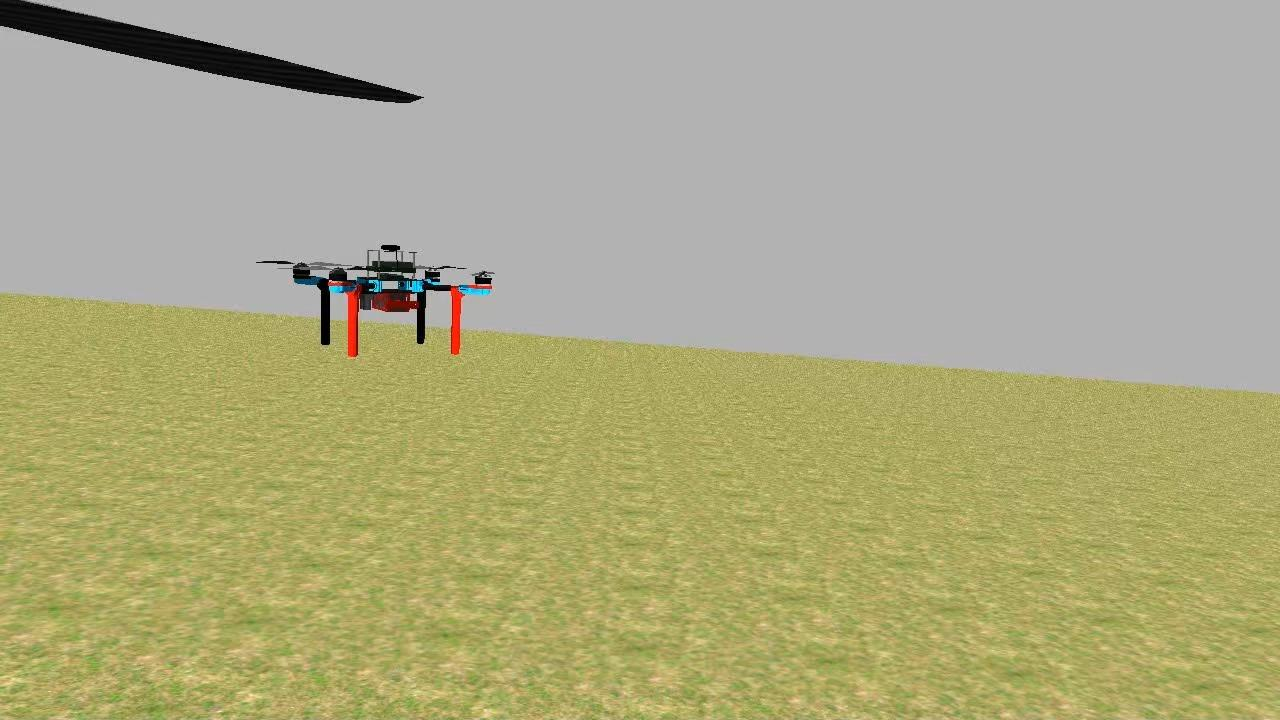UAV: (290, 238, 502, 362)
